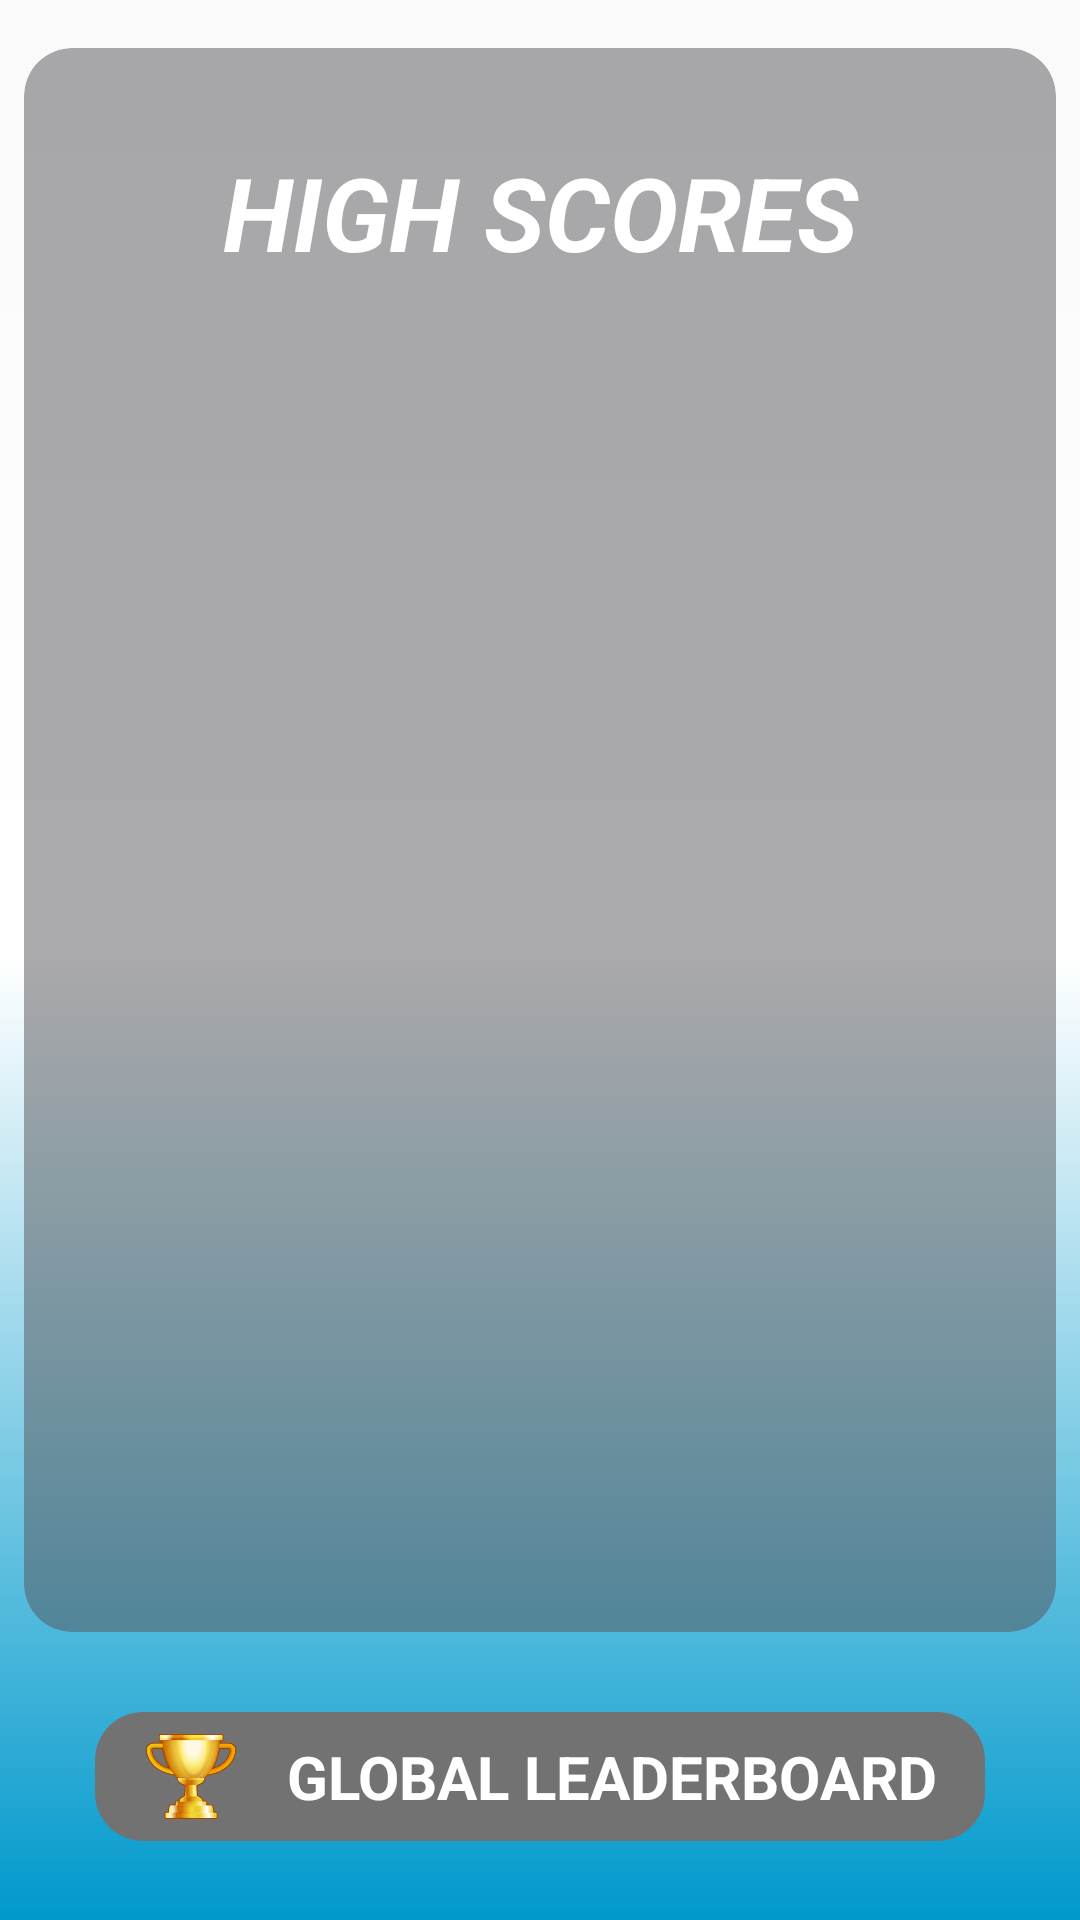

Point at icon controls on the screen. Image size 1080w x 1920h, points as [x,y].
gold cup: [191,1776]
